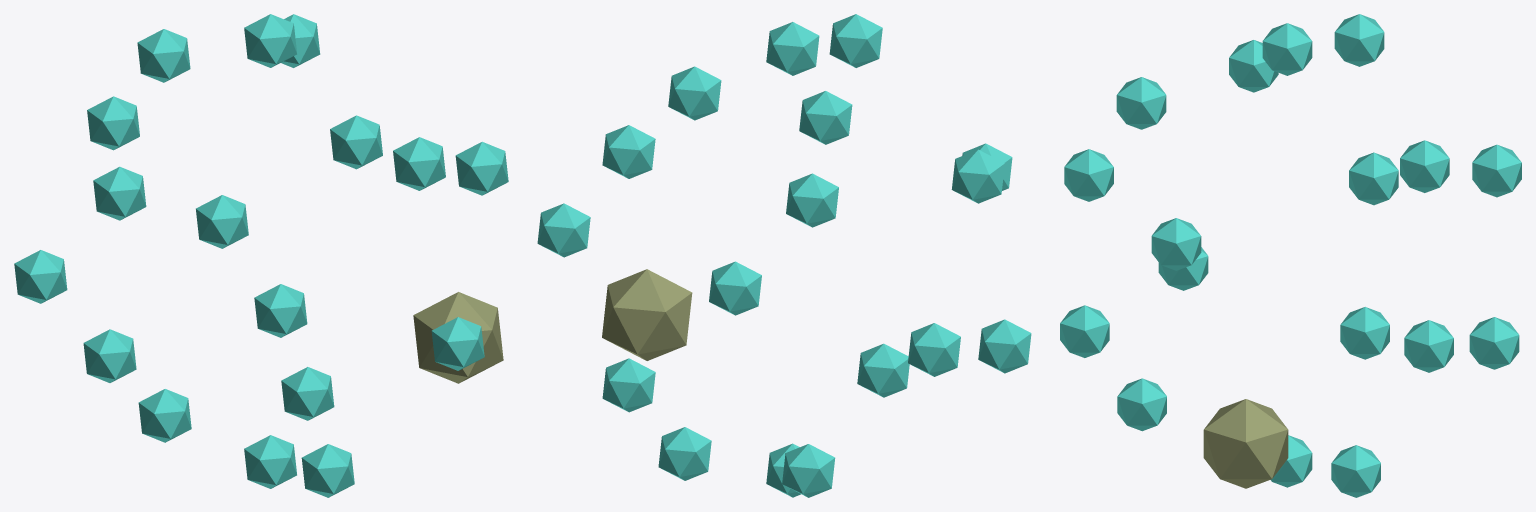
Rendered from globe-daughter.glb.
3 renders of one model, left to right at view 1: azimuth 30°, elevation 25°; view 2: azimuth 150°, elevation 25°; view 3: azimuth 270°, elevation 25°, orthographic. The views are drawn at different scales.
Parts seen in each view (by area): view 1: globe_daughter_nodes; view 2: globe_daughter_nodes; view 3: globe_daughter_nodes.
Part boxes in pixels (left/top/right/bottom): globe_daughter_nodes: left=14, top=14, right=508, bottom=497; globe_daughter_nodes: left=537, top=14, right=1031, bottom=497; globe_daughter_nodes: left=1060, top=14, right=1521, bottom=497.
Bounding box in the file's own units: 1.46 × 1.58 × 1.42.
